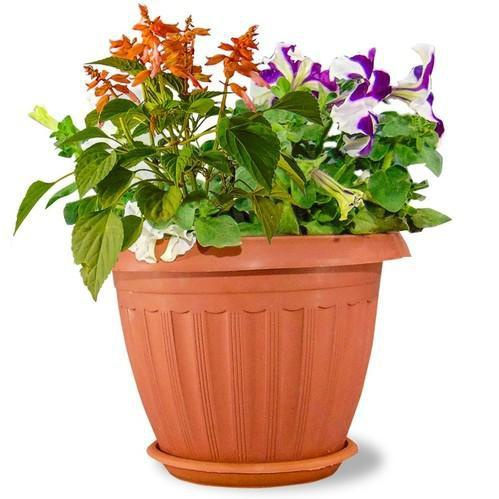flowerpot: (103, 225, 412, 483)
